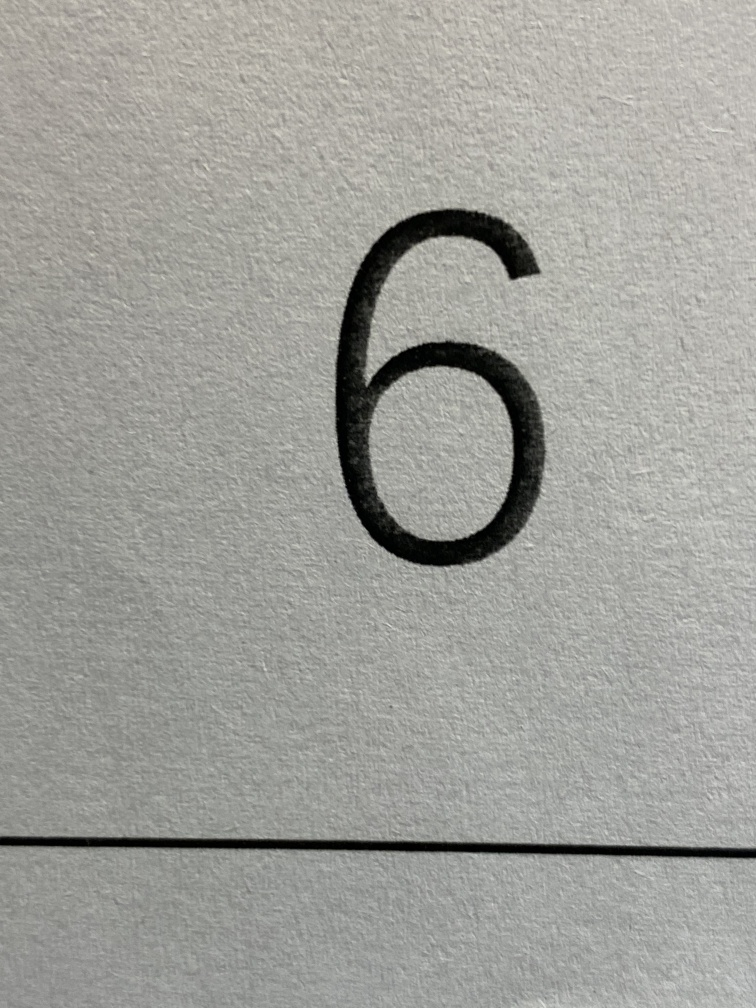six: (252, 131, 637, 639)
